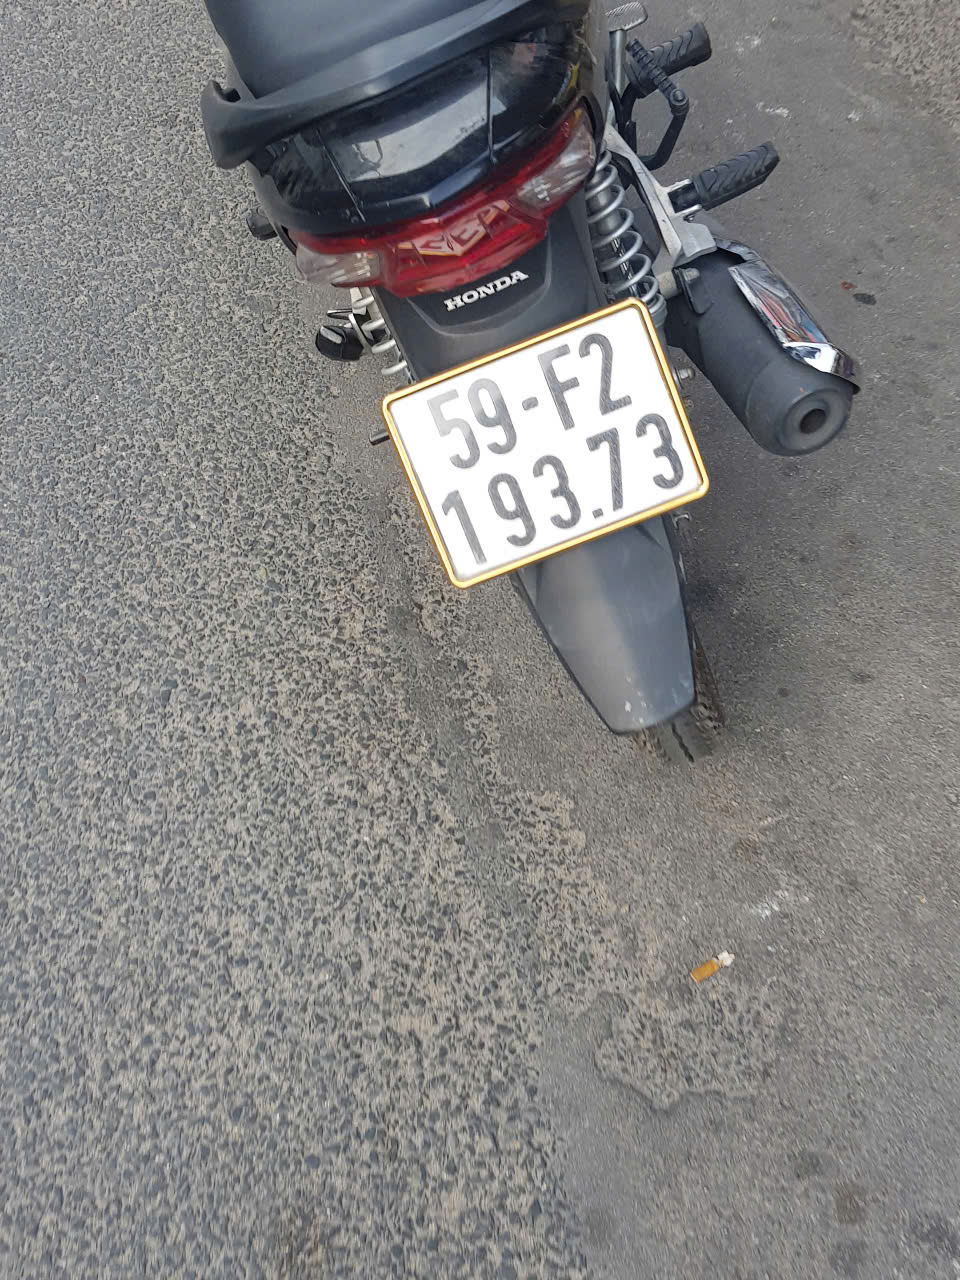bien_so: (387, 303, 706, 584)
